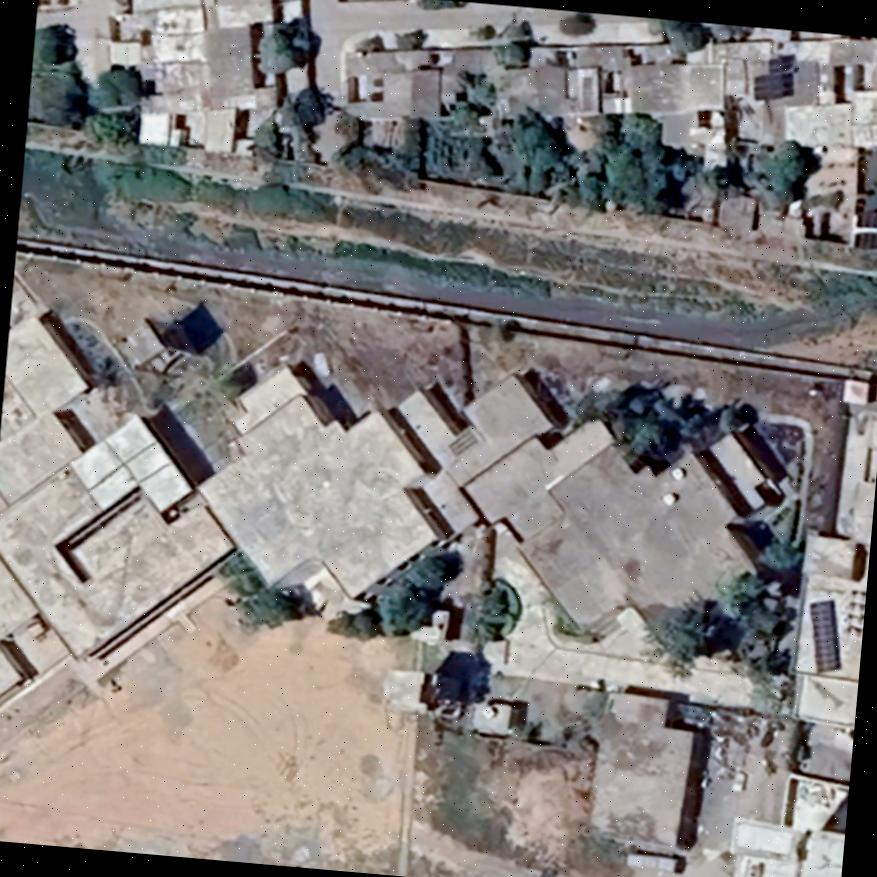Solarpanel: (807, 594, 845, 681), (748, 52, 793, 105)
